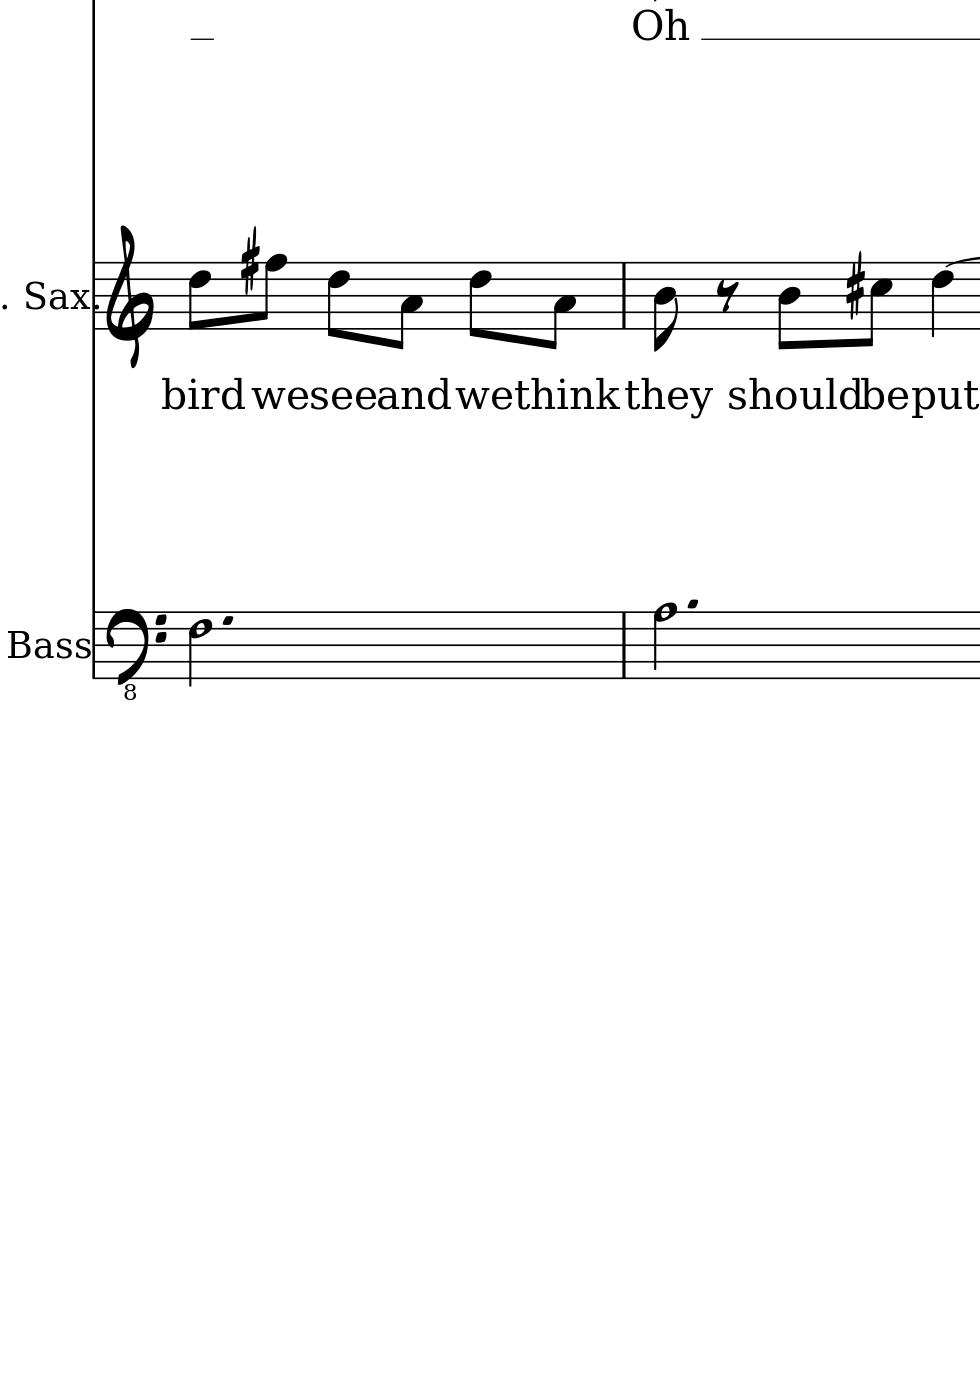2_6: (186, 611, 214, 691)
2_8: (651, 601, 678, 681)
4_6: (929, 261, 955, 337)
8_3: (386, 260, 422, 350), (540, 260, 576, 350)
8_4: (651, 260, 680, 354), (776, 261, 802, 352)
8_5: (862, 259, 893, 348)
8_6: (467, 260, 492, 341), (186, 260, 214, 332), (325, 259, 350, 339)
8_8: (255, 252, 287, 330)
Bass: (4, 626, 91, 663)
Gclef: (105, 223, 158, 369)
Lower_Fclef: (104, 606, 167, 703)
Rests8: (713, 278, 740, 313)
Sax: (22, 275, 90, 314)
Sharp: (237, 224, 260, 295), (844, 252, 865, 320)
Single_barline: (615, 262, 632, 329), (616, 612, 632, 679), (88, 262, 102, 332), (88, 612, 101, 678)
dot: (220, 613, 234, 627)
